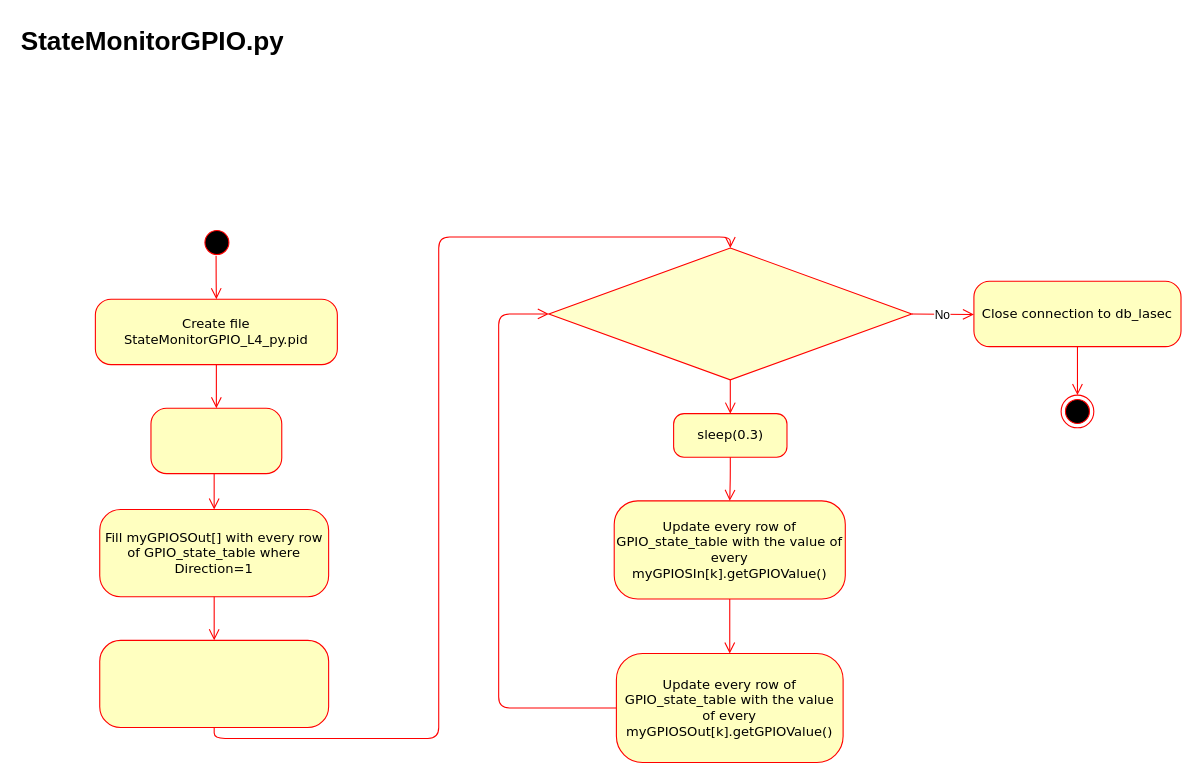
This 1200x782 diagram has some shape labels left out. Each missing label, with the centre of its shape:
"Connect to database db_lasec" goes at (216,440).
"Does StateMonitorGPIO_L4_py.pid exist ?" goes at (730,313).
"Fill myGPIOSIn[] with every row of GPIO_state_table where Direction=0" goes at (214,683).
